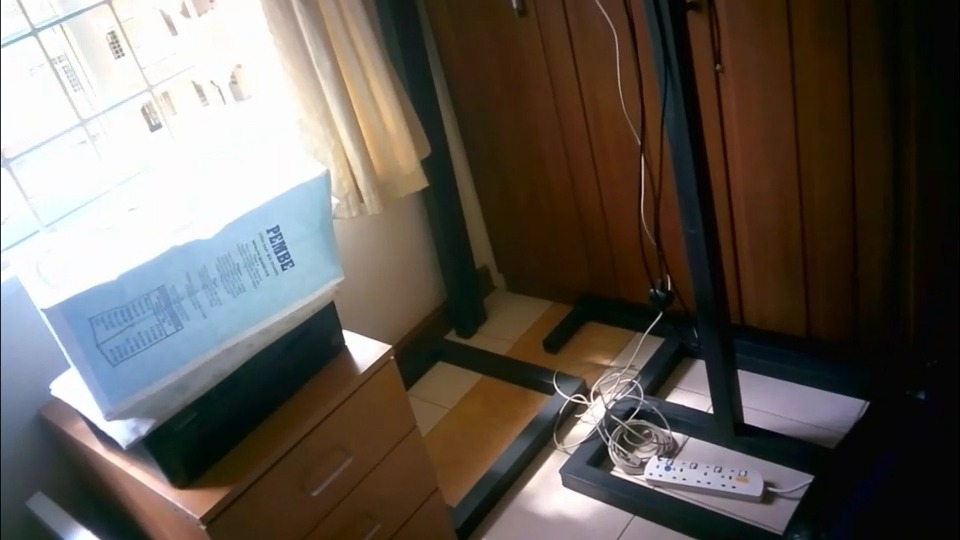wheat_flour_blue_label: (22, 169, 351, 411)
